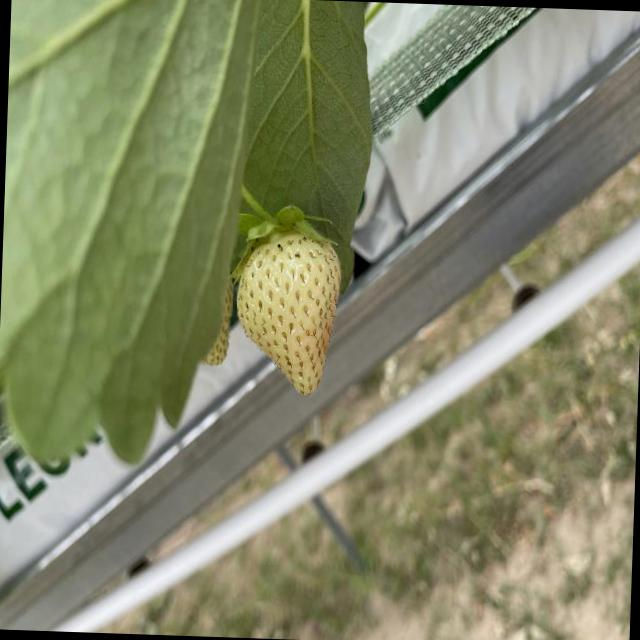stem: (239, 186, 332, 243)
strawberryNR: (236, 231, 337, 392)
